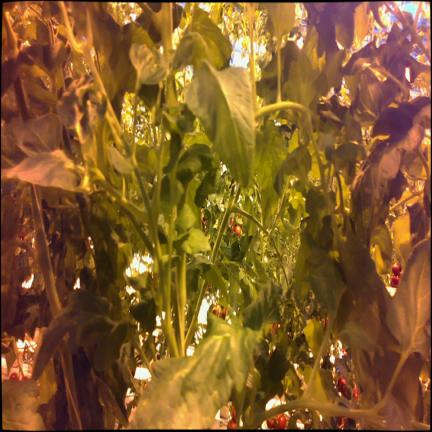MainStem: (29, 185, 61, 317), (61, 352, 82, 430), (337, 376, 348, 398), (227, 419, 236, 429), (231, 406, 236, 422), (235, 226, 241, 235)
tomato: (277, 414, 286, 429), (392, 263, 401, 274), (267, 418, 275, 429), (392, 275, 400, 285)
